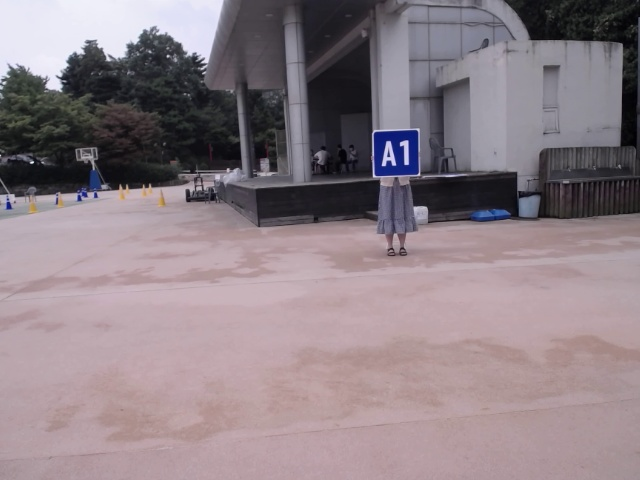delivery_a1: (373, 130, 420, 176)
